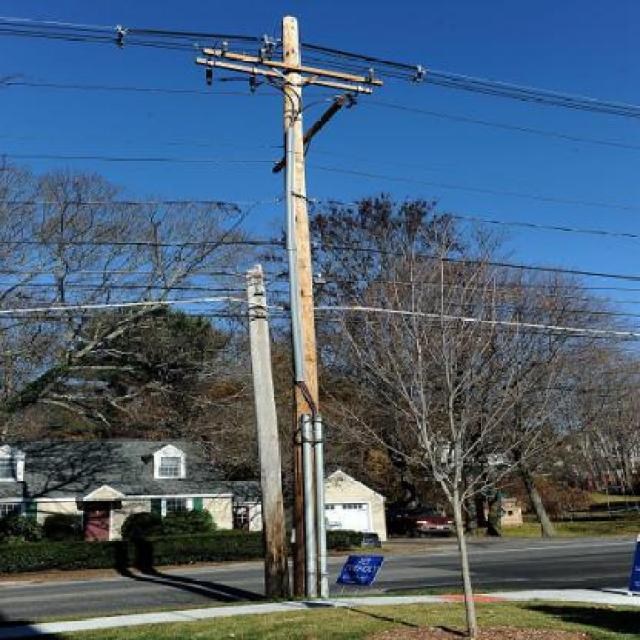pole: (204, 11, 384, 604), (220, 253, 302, 596)
